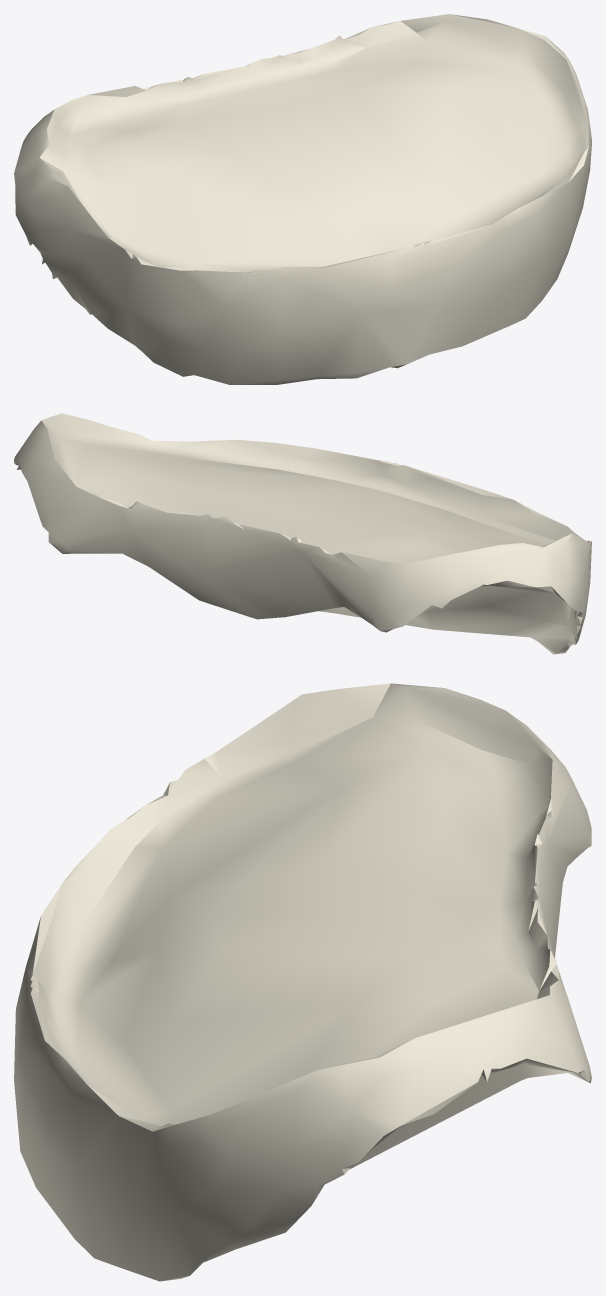
File: fma13899_fj3220.glb
The picture shows the model from 3 angles, top to bottom: view 1: azimuth 30°, elevation 25°; view 2: azimuth 150°, elevation 25°; view 3: azimuth 270°, elevation 25°; orthographic projection. The views are drawn at different scales.
Visible parts, largest first — view 1: FMA13899_FJ3220; view 2: FMA13899_FJ3220; view 3: FMA13899_FJ3220.
Boxes of the visible parts, <box> form: FMA13899_FJ3220: <box>14,14,591,384</box>; FMA13899_FJ3220: <box>14,413,591,654</box>; FMA13899_FJ3220: <box>14,683,591,1281</box>.
Bounding box in the file's own units: 0.0282 × 0.00957 × 0.0168.
